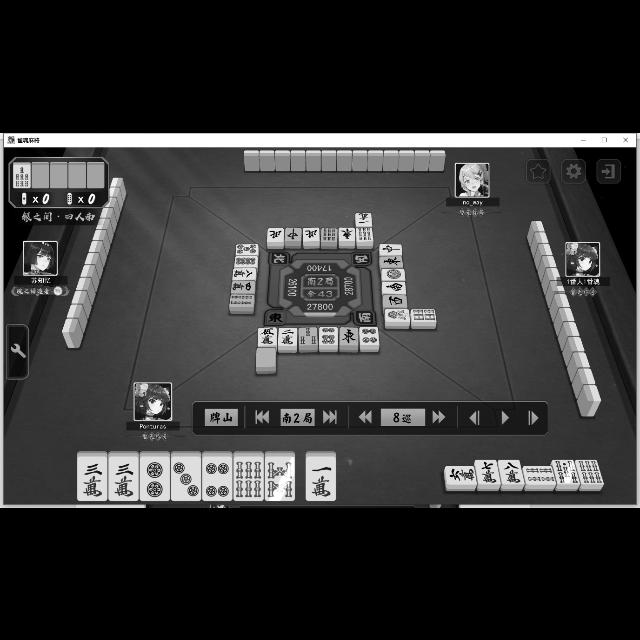1m: (306, 456, 336, 500), (356, 210, 372, 226)
1p: (379, 268, 406, 280)
1s: (383, 308, 412, 322)
2m: (278, 326, 298, 346)
2p: (140, 457, 170, 501)
3m: (76, 456, 108, 502), (108, 456, 138, 500)
3p: (170, 456, 202, 500)
3s: (300, 326, 318, 344)
4m: (230, 280, 254, 292)
4p: (202, 456, 232, 500), (359, 326, 379, 344)
4s: (524, 464, 556, 484), (228, 292, 256, 306)
5m: (258, 326, 278, 346)
5p: (236, 243, 260, 255)
5s: (554, 458, 582, 484)
6m: (445, 465, 477, 485)
6p: (319, 326, 336, 344)
6s: (232, 456, 264, 500), (578, 458, 606, 484), (412, 308, 438, 322)
7m: (476, 459, 502, 483)
7s: (12, 162, 30, 188)
8m: (500, 458, 526, 486), (232, 266, 256, 278)
8p: (234, 256, 258, 266)
8s: (266, 456, 294, 500)
9s: (320, 226, 338, 242), (356, 226, 374, 240)
chun: (379, 241, 403, 255), (284, 226, 302, 242)
haku: (256, 346, 274, 368)
nan: (381, 280, 407, 294)
pe: (266, 226, 284, 242), (303, 226, 319, 240)
sha: (383, 293, 409, 307)
tou: (339, 326, 358, 344), (380, 255, 402, 267), (339, 228, 355, 240)
